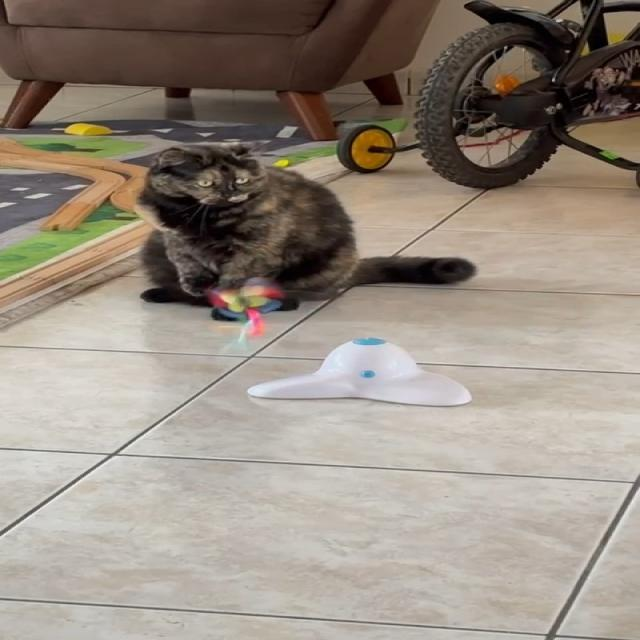authorized: (134, 137, 478, 308)
